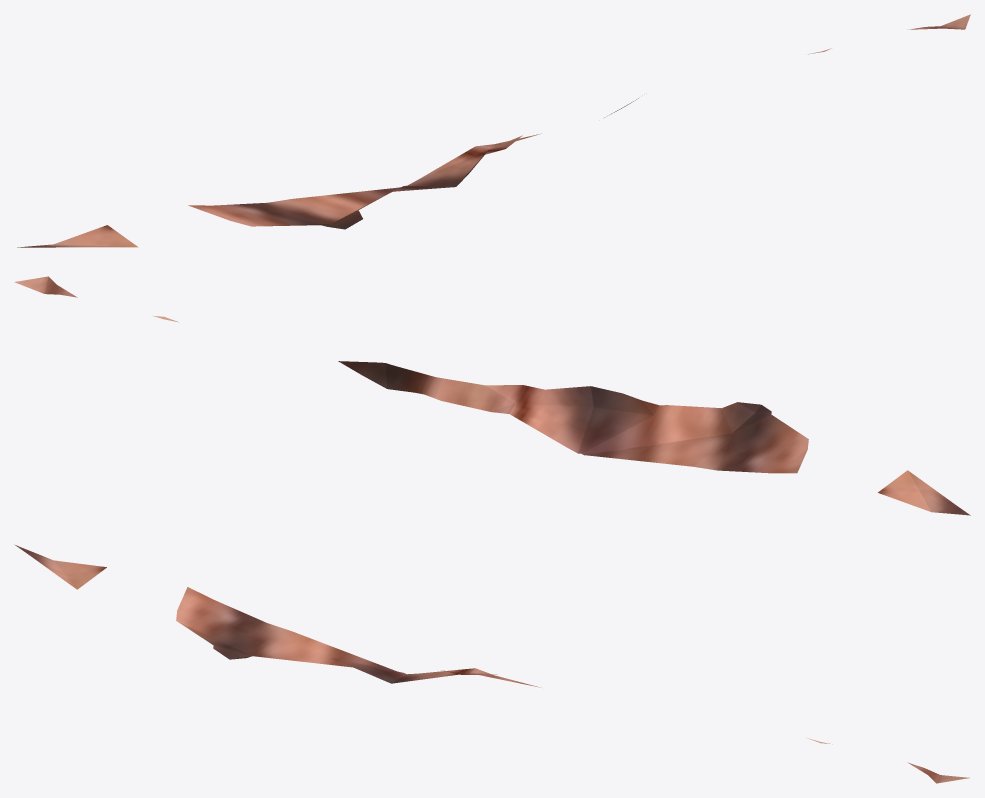
3 views of the same model, one above another, from view 1: azimuth 30°, elevation 25°; view 2: azimuth 150°, elevation 25°; view 3: azimuth 330°, elevation 25° (orthographic).
Size of the model in its own units: 0.5873 by 0.02 by 0.0651.
1 material, 1 textured.
